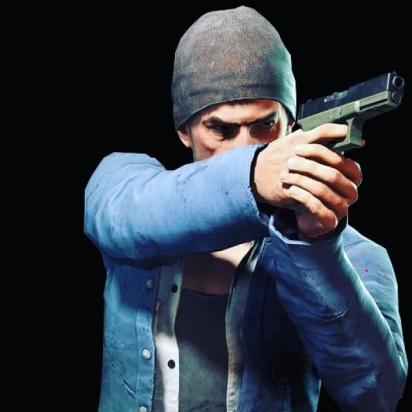Gun: (292, 68, 410, 205)
